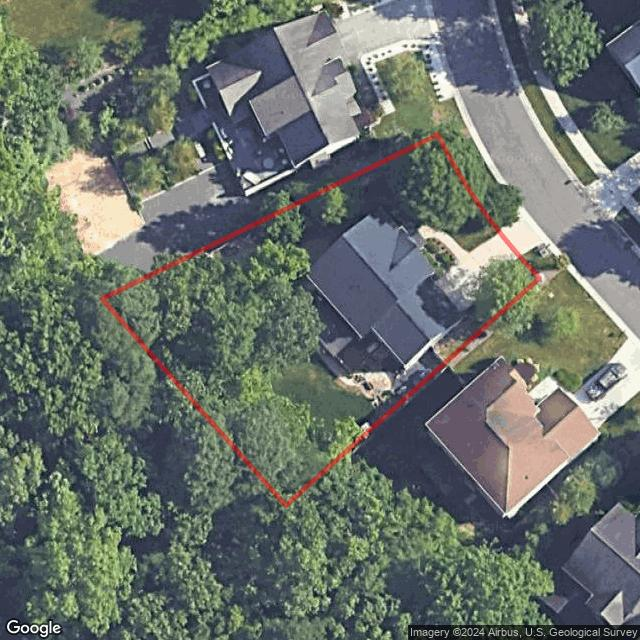Driveway: (431, 233, 519, 315)
Extra-Driveway: (499, 213, 544, 257)
Extra-Lawn: (437, 123, 520, 231), (520, 242, 561, 279)
House: (304, 203, 464, 371)
Lawn: (102, 134, 540, 505)
Other: (312, 295, 445, 415), (417, 239, 460, 280)
Sidewalk: (411, 224, 469, 261)
